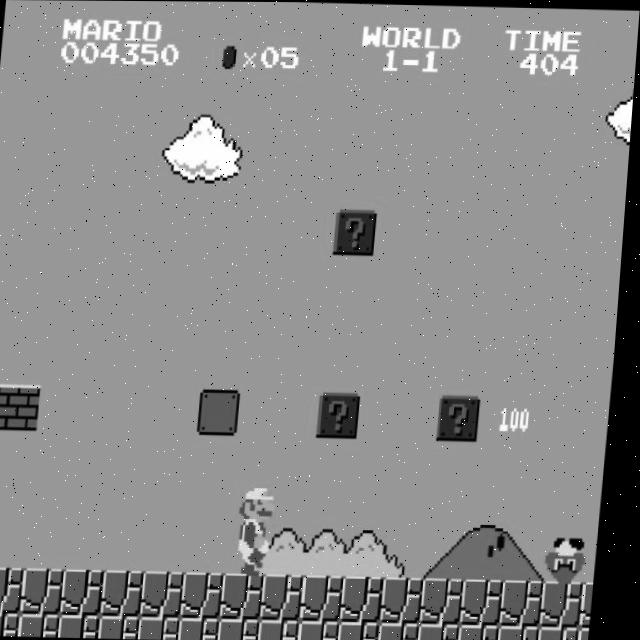1- brick_block: (2, 384, 47, 431), (0, 382, 7, 429)
13- mystery_block: (322, 391, 367, 438), (442, 394, 487, 441), (336, 209, 380, 255)
17- undestructible_block: (28, 567, 73, 615), (108, 569, 153, 617), (388, 575, 433, 623), (468, 577, 513, 625), (68, 568, 113, 615), (148, 570, 193, 617), (188, 571, 233, 618), (228, 572, 273, 619), (268, 573, 313, 620), (308, 574, 353, 621), (348, 575, 393, 622), (428, 577, 473, 624), (548, 579, 592, 627), (508, 579, 552, 626), (0, 566, 34, 613), (27, 613, 69, 637), (67, 614, 109, 638), (107, 615, 149, 639), (147, 616, 189, 640), (187, 616, 229, 640), (227, 618, 269, 640), (267, 618, 309, 640), (307, 619, 349, 640), (347, 620, 389, 640), (387, 620, 429, 640), (427, 622, 469, 640), (467, 623, 509, 640), (0, 612, 29, 636), (587, 580, 602, 626), (507, 624, 549, 640), (547, 624, 589, 640), (586, 626, 598, 640)
3- empty_block: (202, 388, 247, 436)
4- fire_mario: (237, 481, 288, 576)
